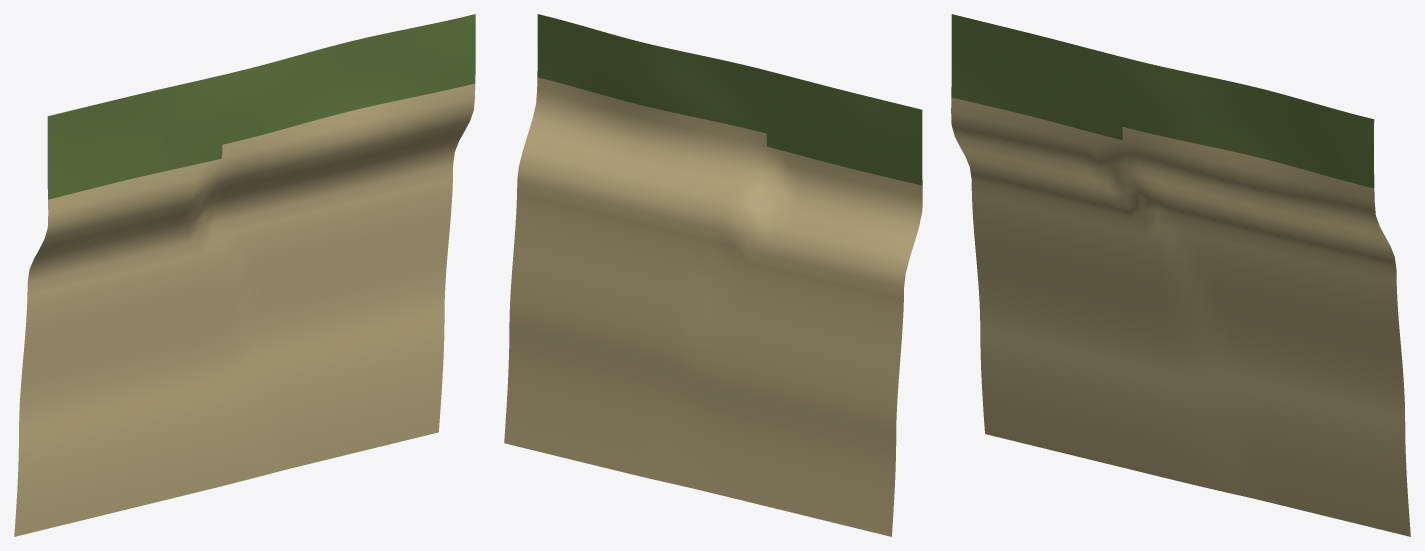
The model's file is island_terrain_31_01.obj.
The picture shows the model from 3 angles, left to right: view 1: azimuth 30°, elevation 25°; view 2: azimuth 150°, elevation 25°; view 3: azimuth 330°, elevation 25°; orthographic projection. The views are drawn at different scales.
Visible parts, largest first — view 1: island_terrain_31_01; view 2: island_terrain_31_01; view 3: island_terrain_31_01.
Part boxes in pixels (left/top/right/bottom): island_terrain_31_01: left=14, top=14, right=475, bottom=536; island_terrain_31_01: left=504, top=14, right=922, bottom=536; island_terrain_31_01: left=951, top=14, right=1410, bottom=536.
Bounding box in the file's own units: 256 × 256 × 38.53.
